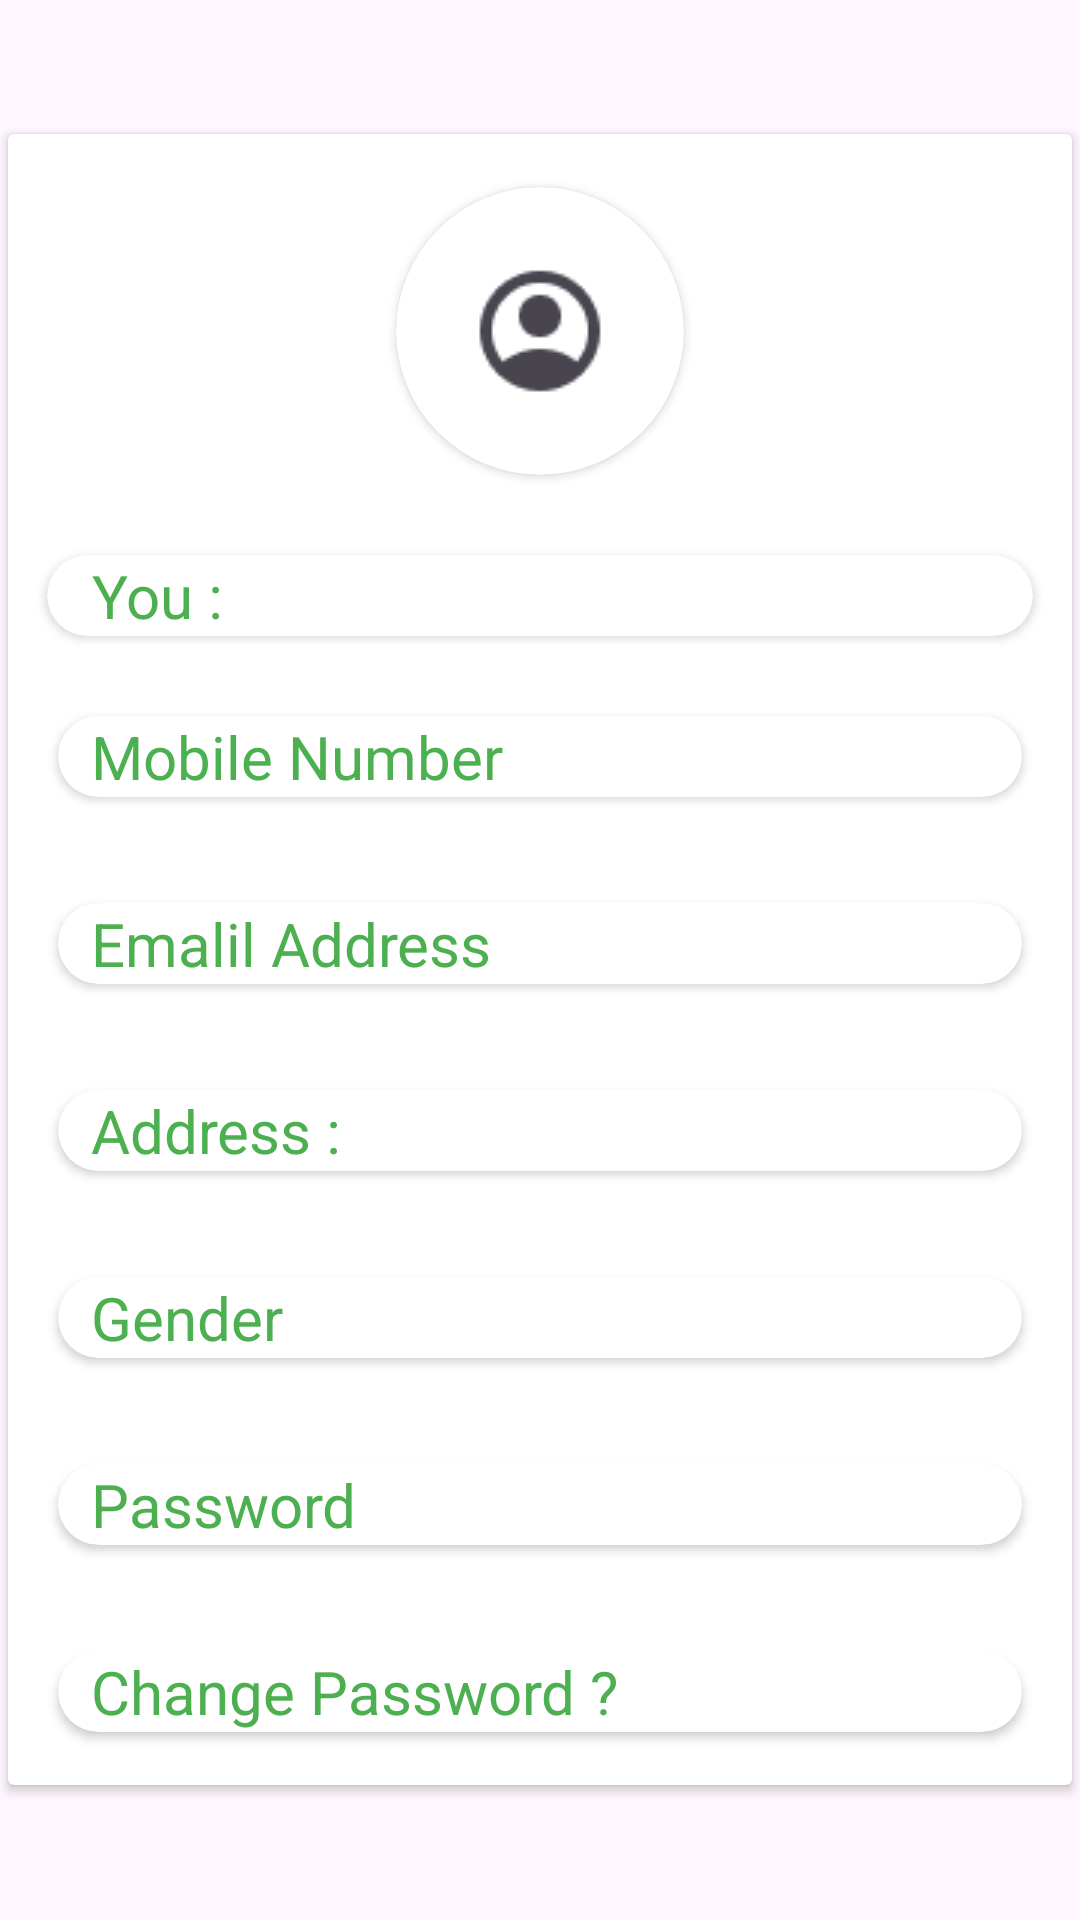

Where icons sit on this 1080 × 1920 app screen, as (x1, y1, x2, y2):
profile: (402, 270, 678, 475)
